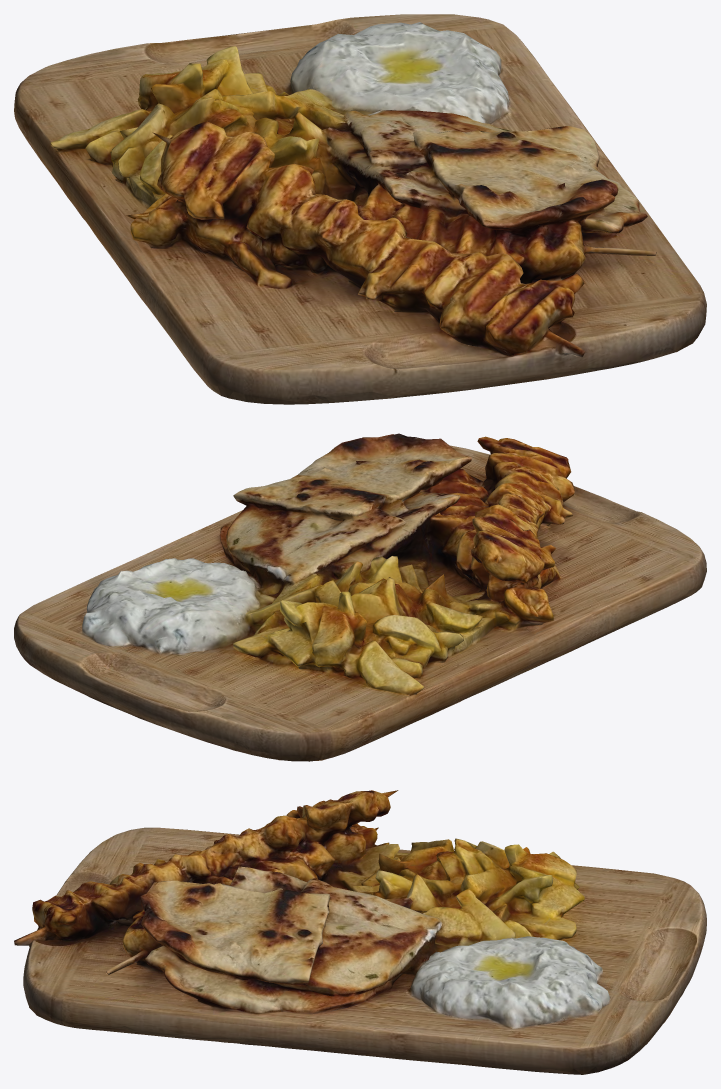
Rendered from souvlaki-grego-android.glb.
3 views of the same model, one above another, from view 1: azimuth 30°, elevation 25°; view 2: azimuth 150°, elevation 25°; view 3: azimuth 270°, elevation 25° (orthographic). The views are drawn at different scales.
Visible parts, largest first — view 1: Object_4; view 2: Object_4; view 3: Object_4.
Boxes of the visible parts, x1,y1,x2,y2 form: Object_4: [14, 14, 706, 404]; Object_4: [14, 433, 706, 761]; Object_4: [14, 790, 706, 1074].
Size of the model in its own units: 0.2401 by 0.0565 by 0.3137.
Materials: 2 (1 with a texture image).
